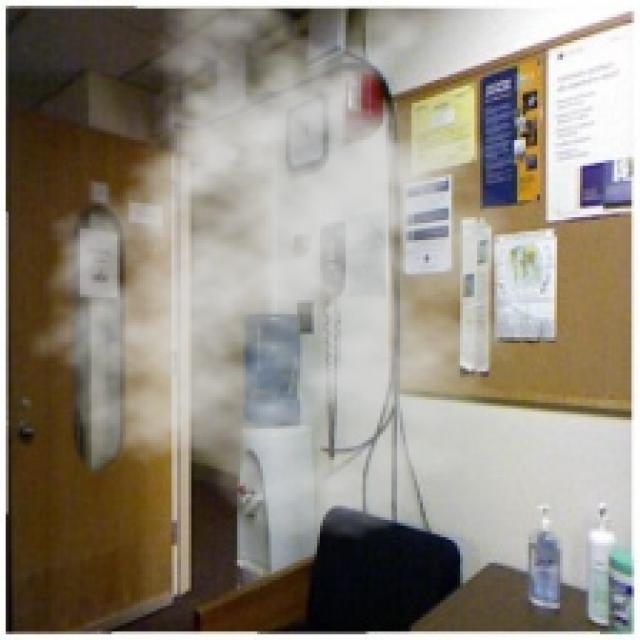Smoke: (26, 8, 574, 540)
